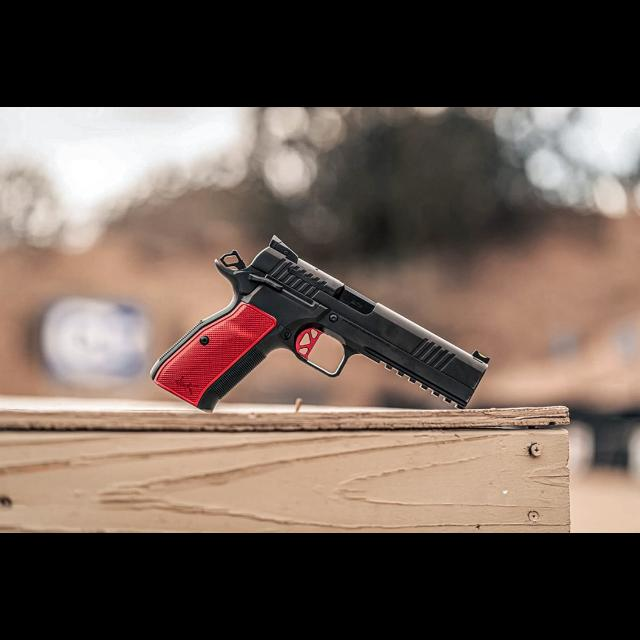handgun: (148, 233, 494, 413)
